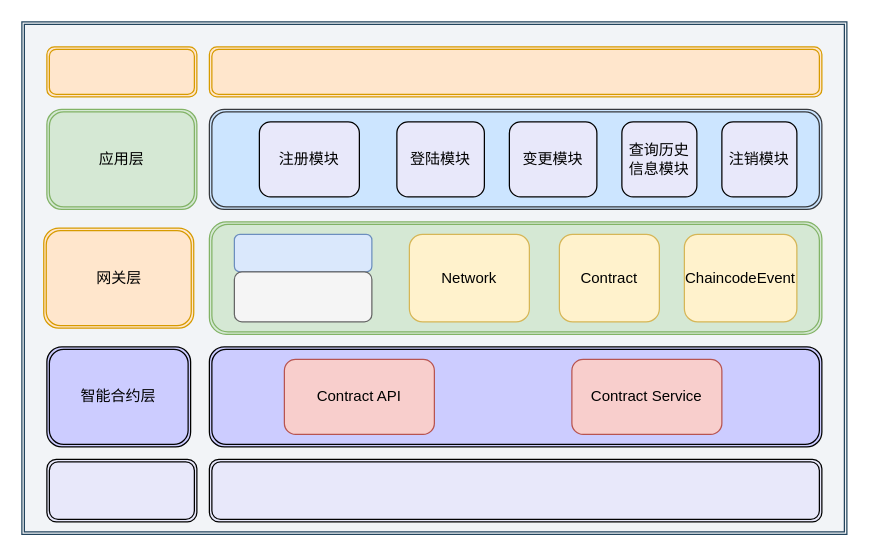
This 869x556 diagram has some shape labels left out. Each missing label, with the centre of its shape:
"Contract API Proxy" belongs at point 302,252.
"Fabric Gateway" belongs at point 302,296.
"Hyperledger Fabric Network" belongs at point 515,490.
"Restful API" belongs at point 515,71.
"基础层" belongs at point 121,490.
"客户端" belongs at point 121,71.
